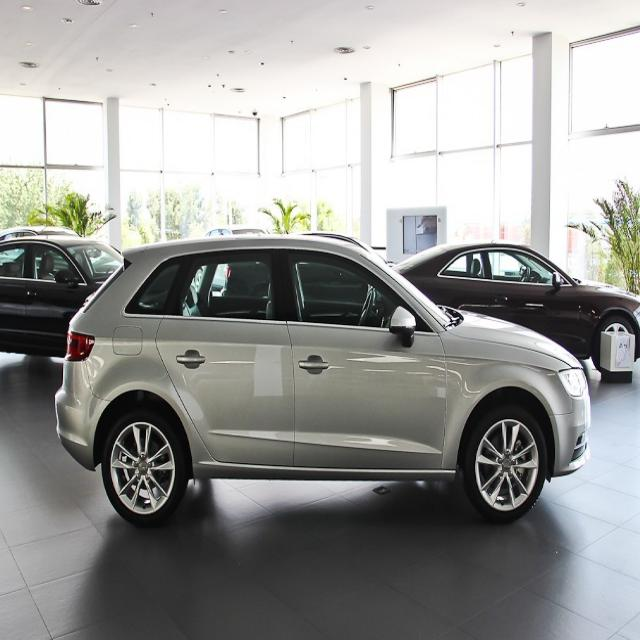back_right_side_light: (64, 327, 96, 365)
door: (154, 242, 298, 477)
front_bumper: (548, 384, 596, 476)
front_right_side_door: (278, 242, 449, 474)
front_right_side_light: (556, 364, 589, 399)
front_right_side_mirror: (385, 302, 418, 349)
rear_bumper: (54, 356, 110, 469)
wheel: (100, 405, 184, 524), (466, 404, 545, 519)
